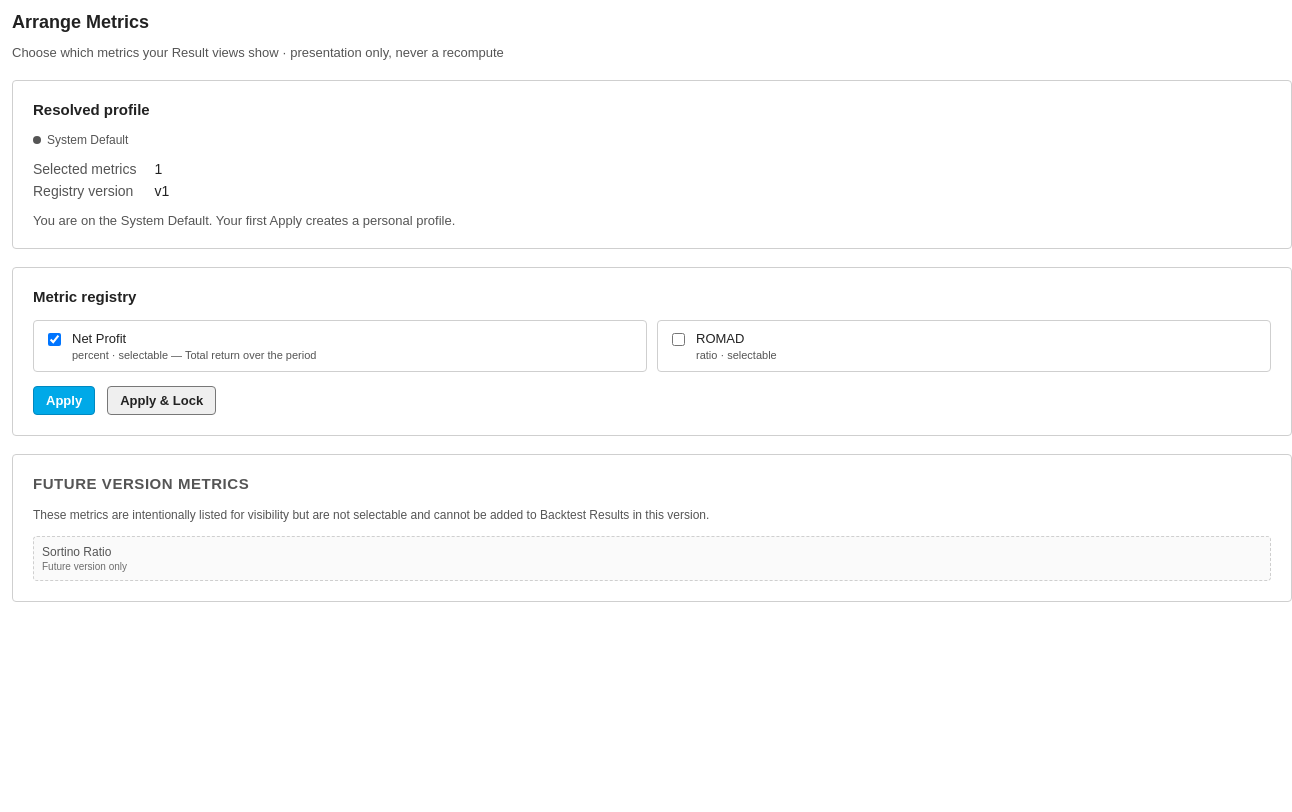
Test case: Arrange Metrics page › applies an edited selection to the editable profile id
Click the checkbox named "Show ROMAD" at (678, 340), box [672,333,685,346]
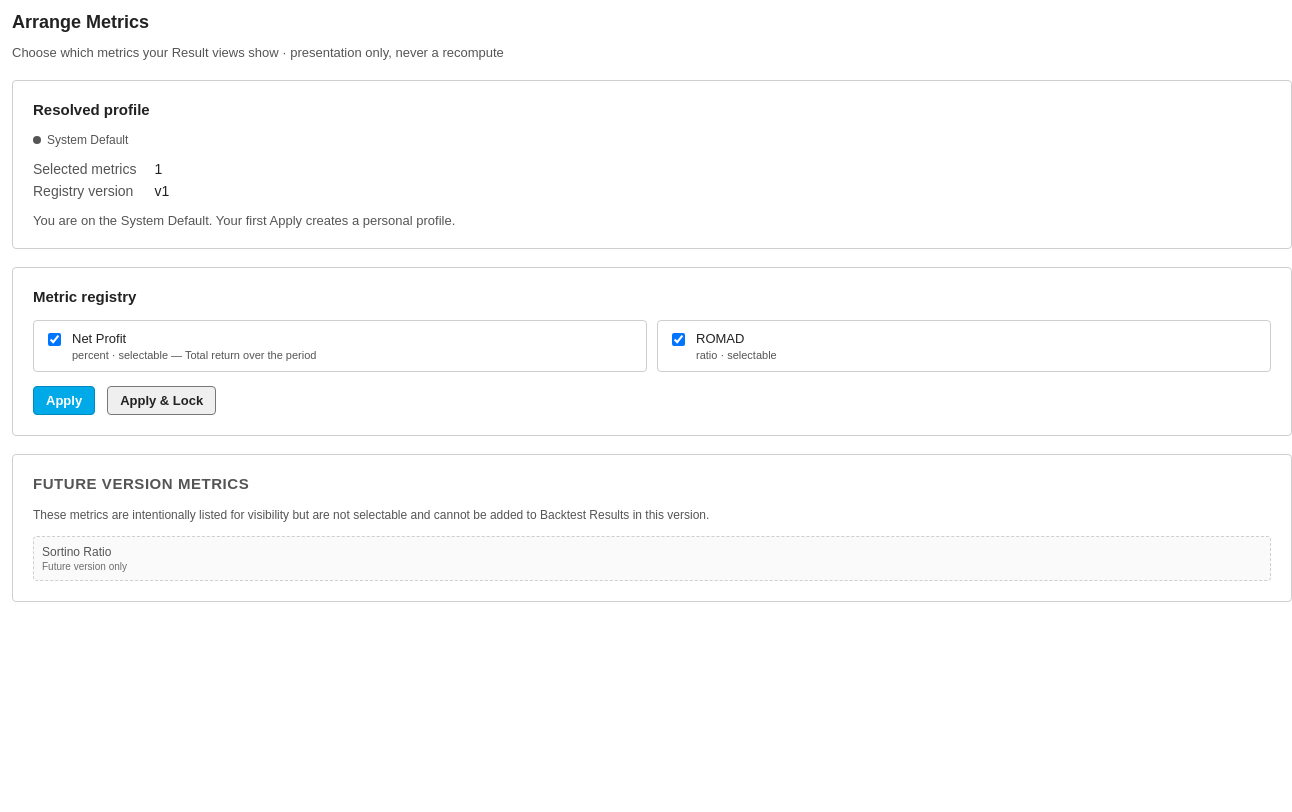
Click the button "Apply" at (64, 400), box [33,386,95,415]
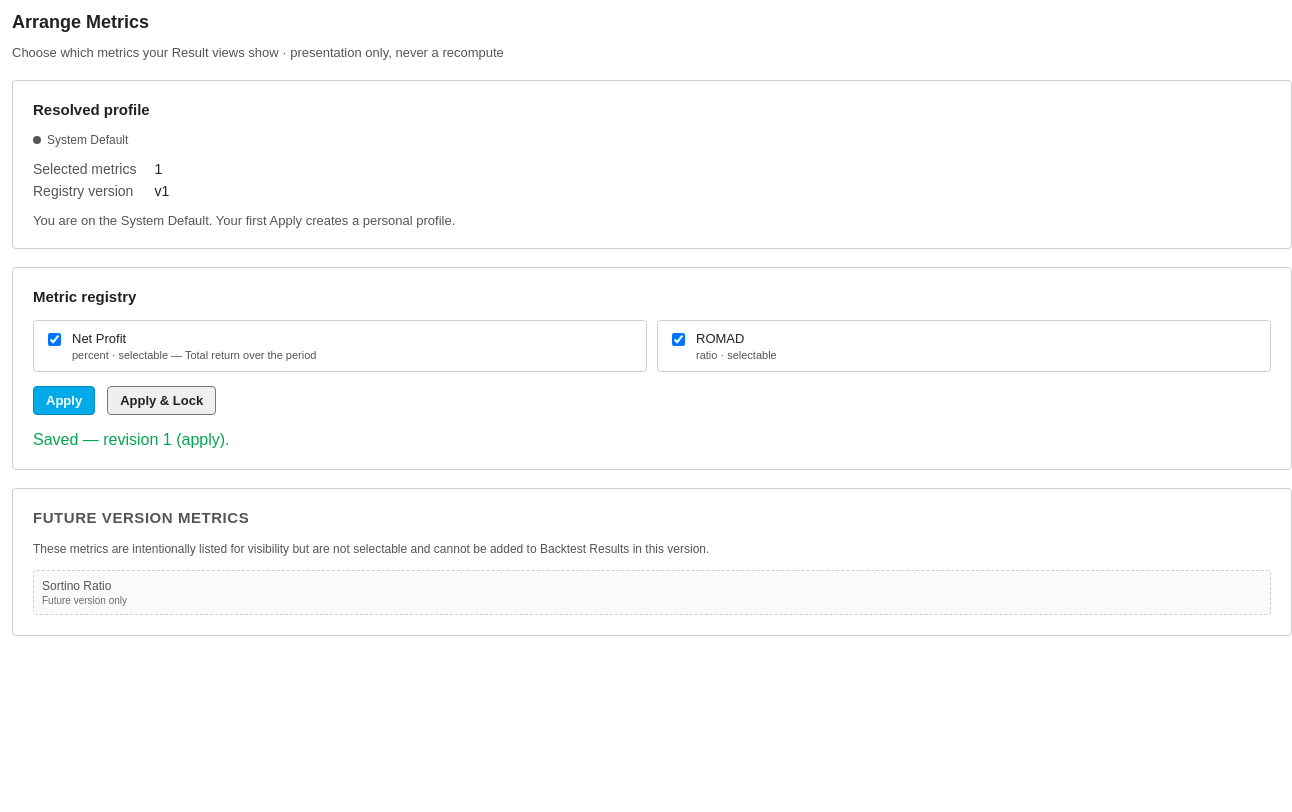
Result: the text "Saved — revision 1 (apply)." is shown at [33,431,230,448]
